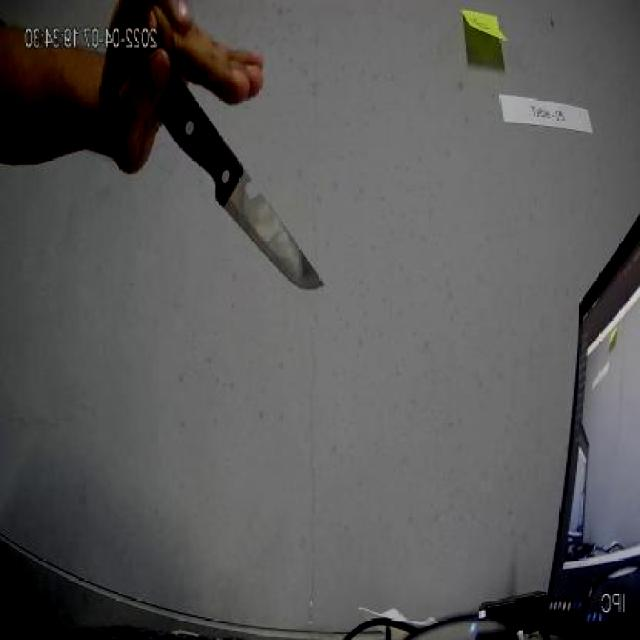knife: (112, 34, 337, 303)
